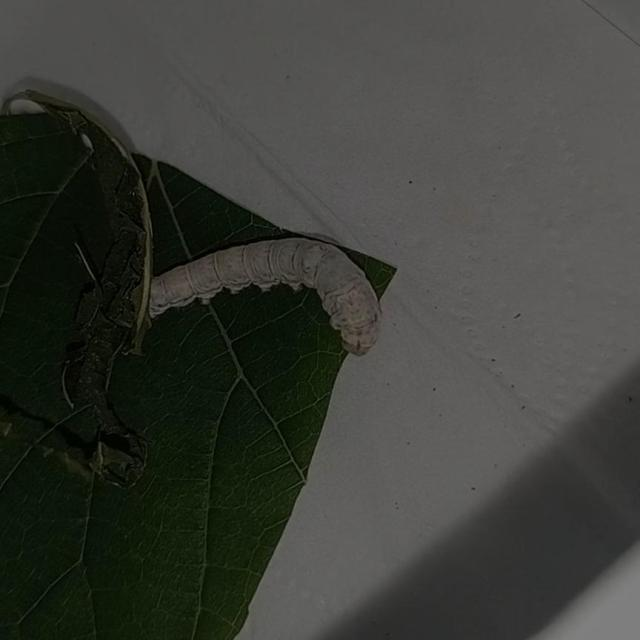Healthy: (120, 228, 398, 363)
